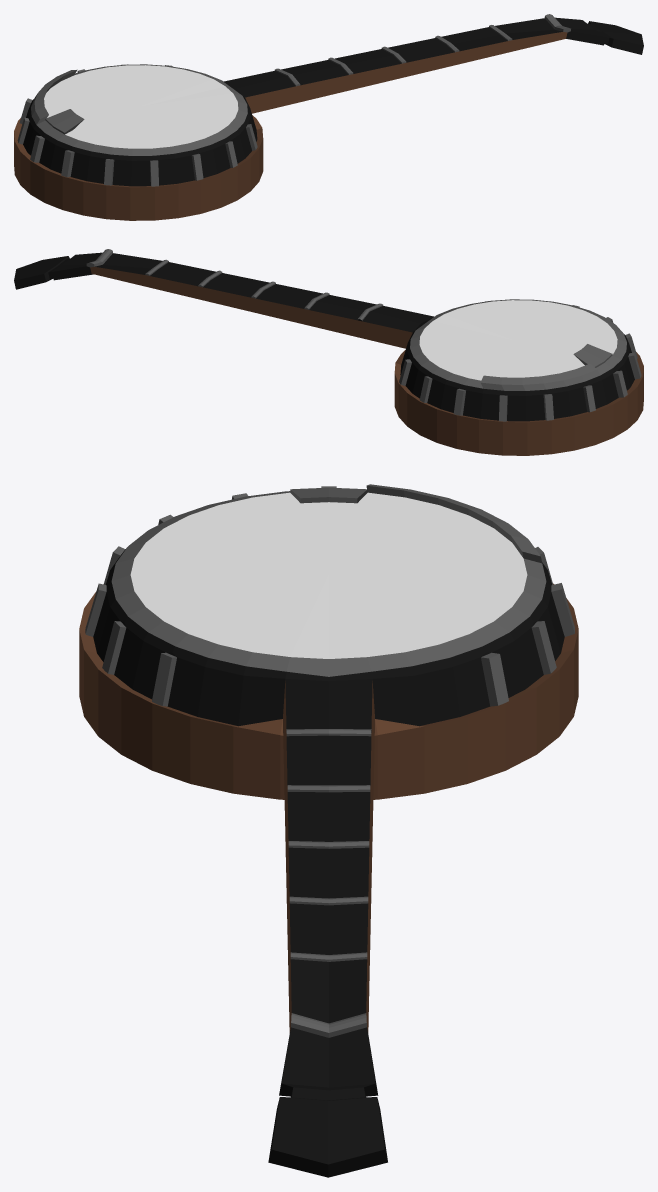
File: bANJO.fbx
The picture shows the model from 3 angles, top to bottom: view 1: azimuth 30°, elevation 25°; view 2: azimuth 150°, elevation 25°; view 3: azimuth 270°, elevation 25°; orthographic projection. The views are drawn at different scales.
Parts seen in each view (by area): view 1: Cylinder; view 2: Cylinder; view 3: Cylinder.
Boxes of the visible parts, x1,y1,x2,y2 form: Cylinder: (14, 14, 643, 220); Cylinder: (14, 249, 643, 455); Cylinder: (79, 484, 578, 1177).
Bounding box in the file's own units: 644 × 69.67 × 228.
